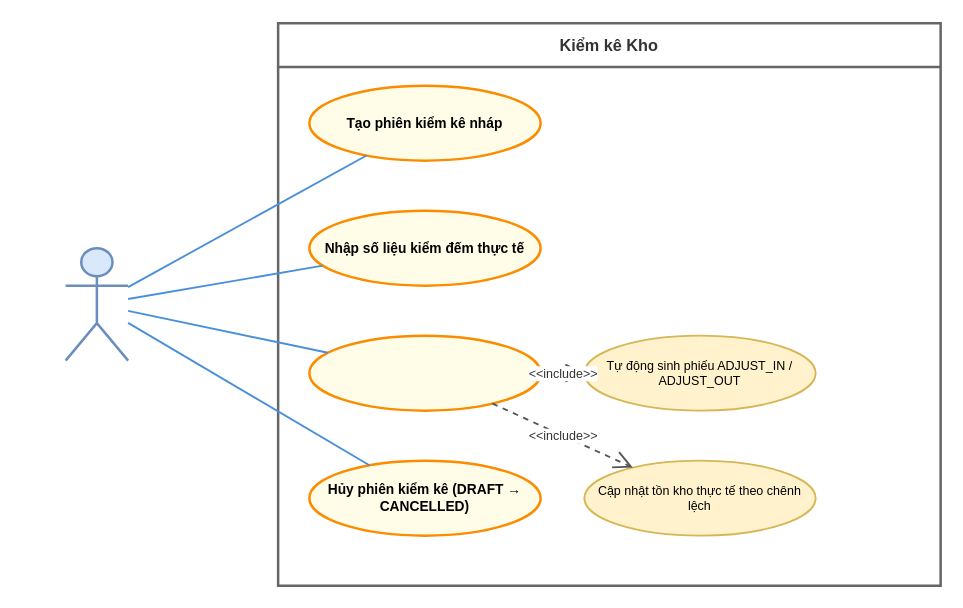
Image size: 963x608. Some labels were removed from this diagram. The centre of each missing label's shape, as x and y in pixels:
"Hoàn tất kiểm kê (DRAFT → COMPLETED)" goes at (424,372).
"Nhân viên kho (STAFF)" goes at (96,303).
